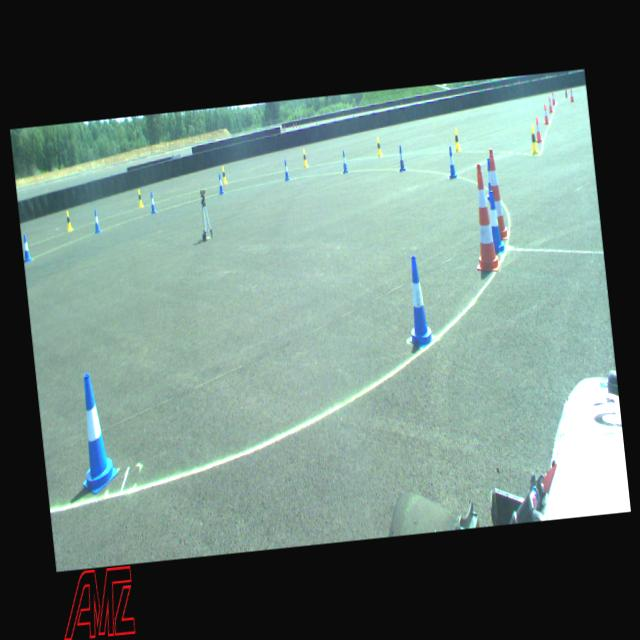blue_cone: (72, 371, 120, 495), (400, 253, 436, 348), (484, 190, 504, 254), (482, 158, 497, 201), (446, 145, 458, 179), (21, 235, 32, 262), (396, 144, 406, 171), (92, 210, 101, 233), (282, 158, 290, 181), (148, 190, 156, 213), (341, 150, 348, 173), (216, 174, 224, 194)
large_orange_cone: (466, 162, 502, 271), (482, 147, 510, 240)
orange_cone: (533, 117, 543, 142), (542, 104, 550, 124), (547, 96, 553, 112), (550, 92, 556, 105), (570, 88, 574, 101), (564, 86, 568, 98)
yellow_cone: (528, 125, 539, 154), (452, 128, 462, 152), (374, 136, 382, 157), (301, 148, 309, 168), (64, 210, 72, 230), (136, 188, 144, 206), (220, 168, 226, 182)
